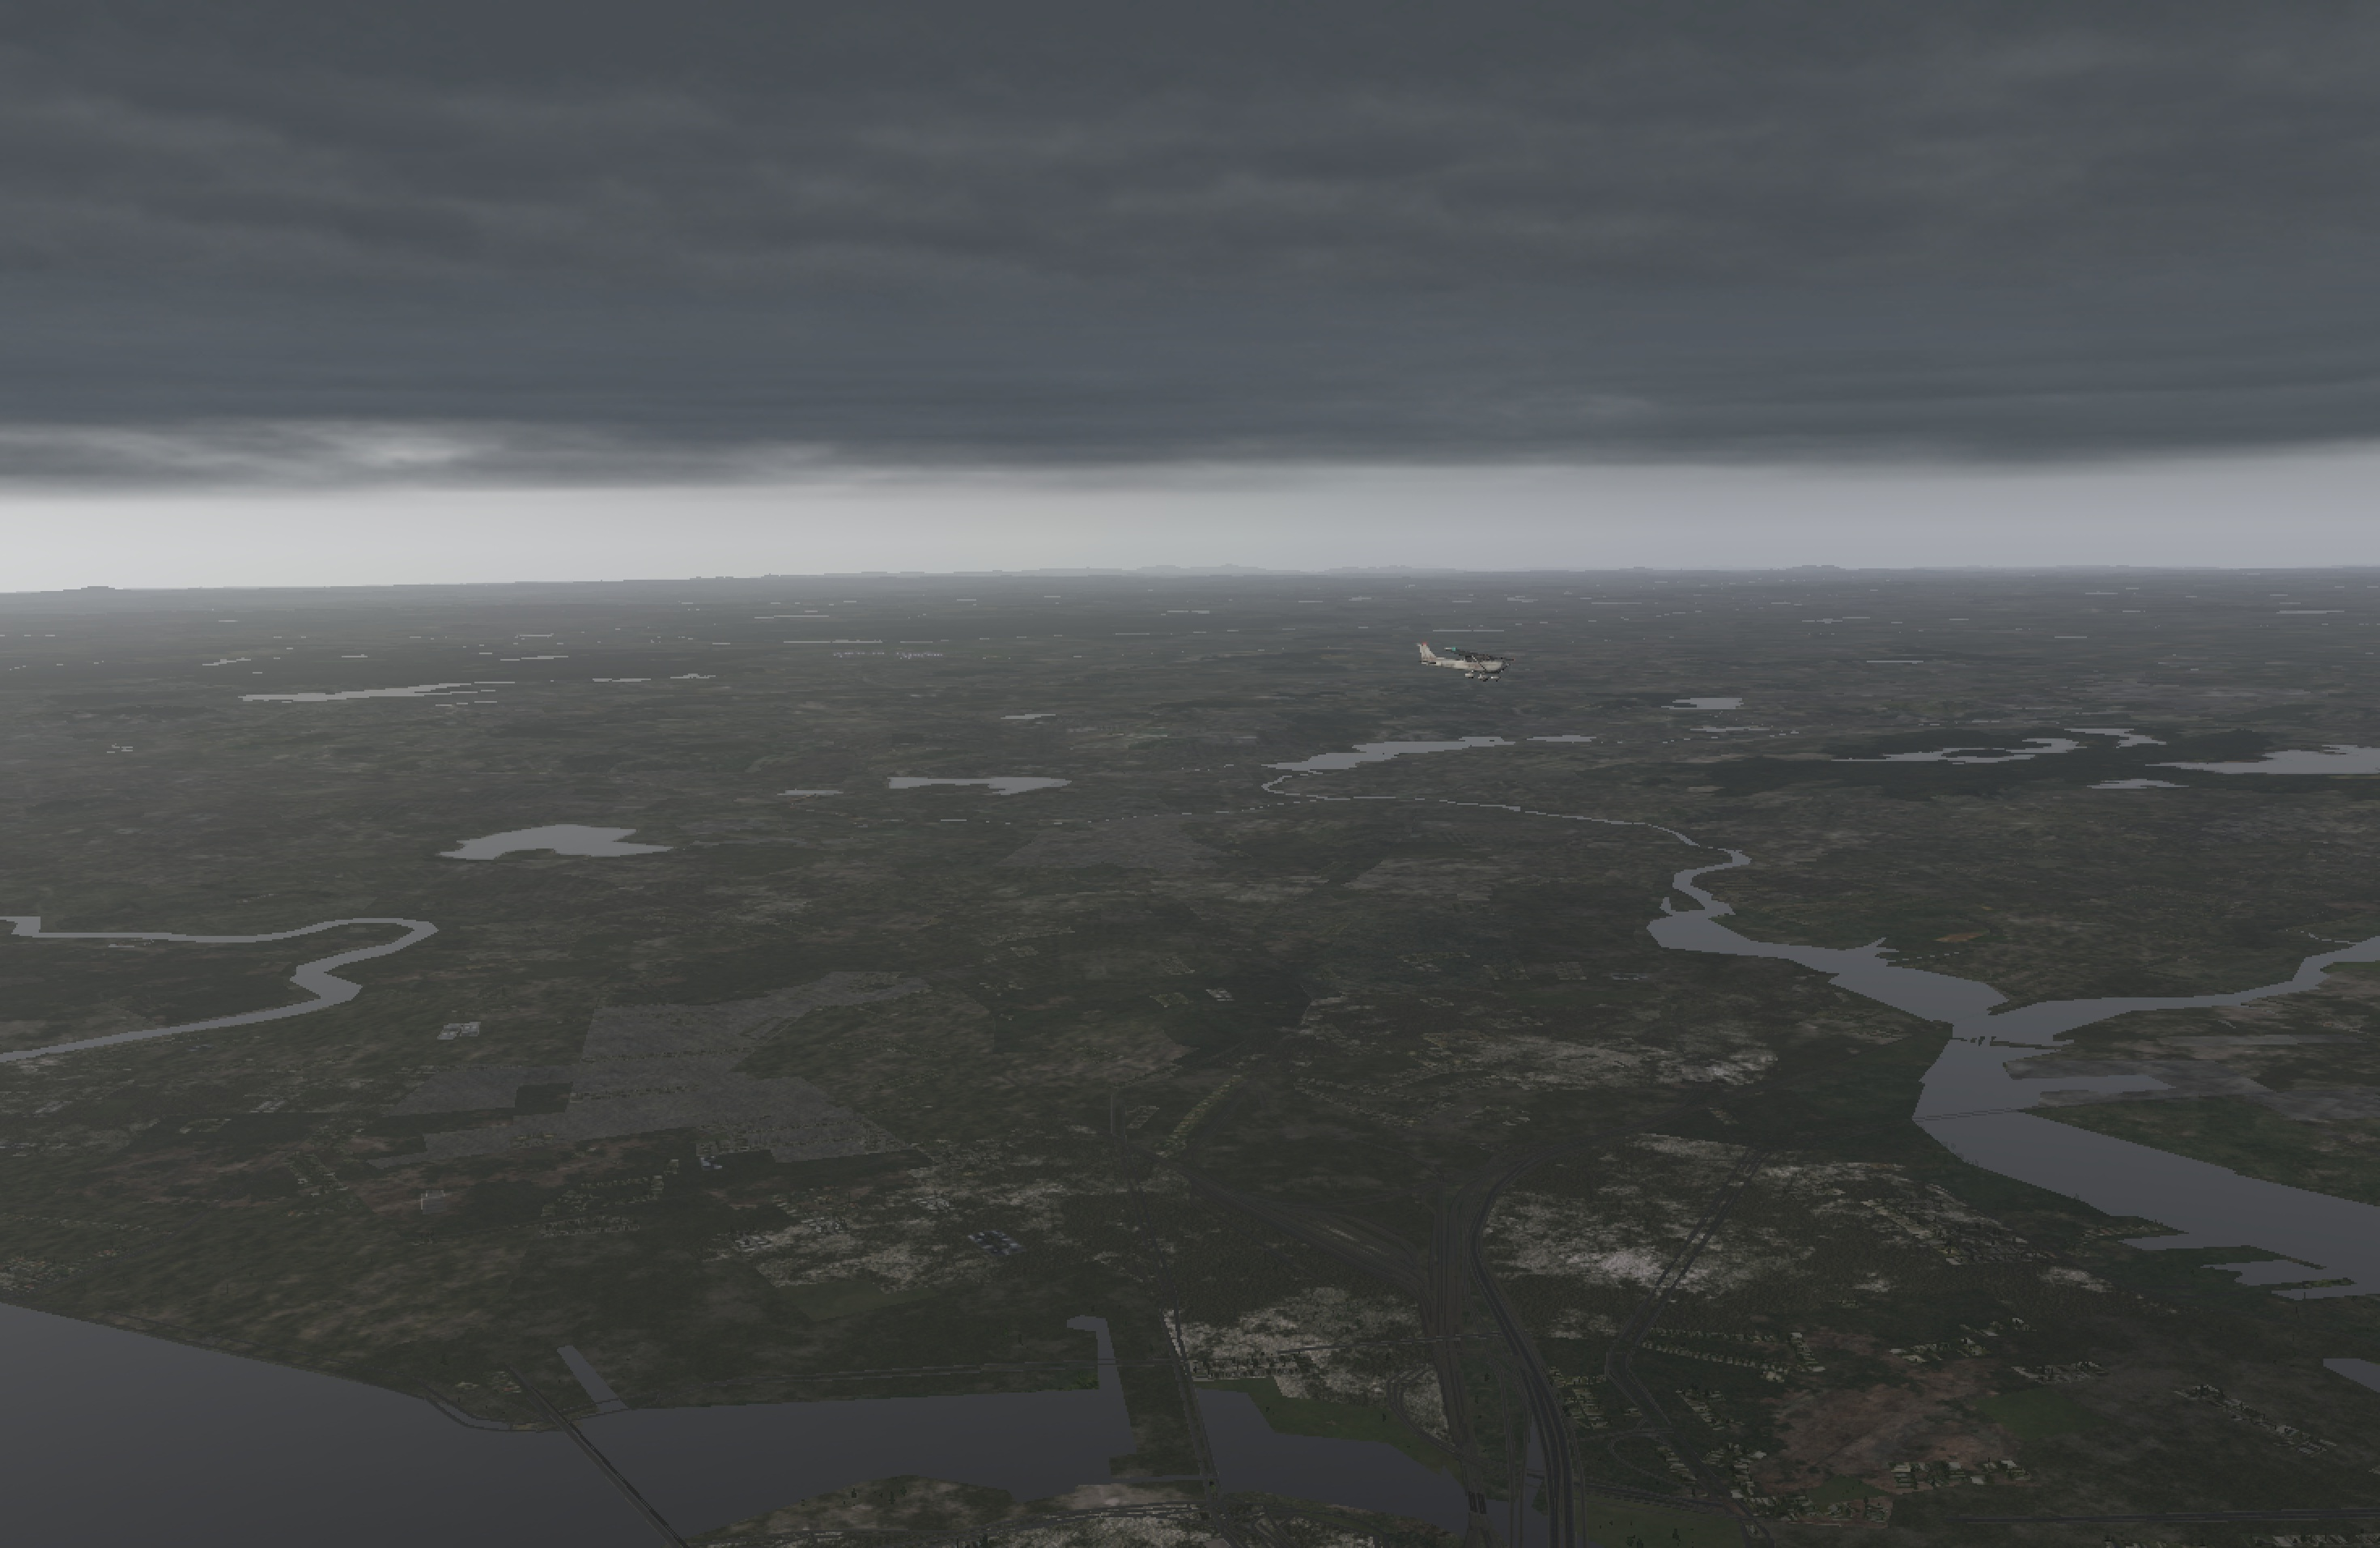aircraft: (1433, 644, 1532, 682)
